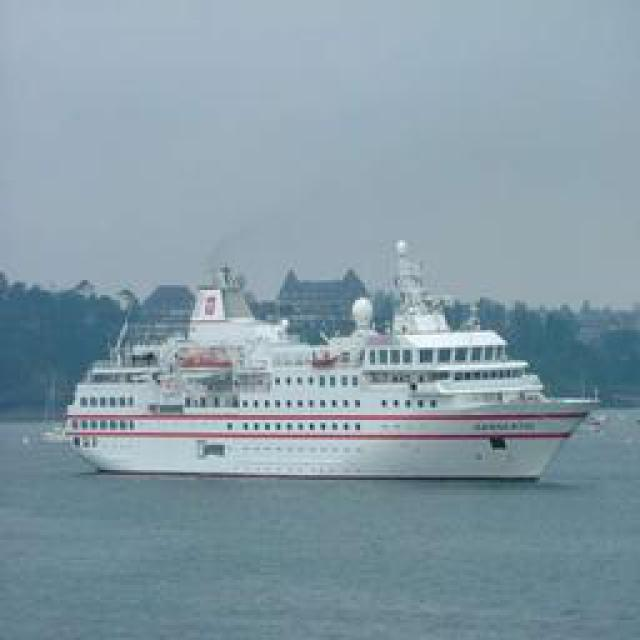Ship: (52, 245, 610, 483)
